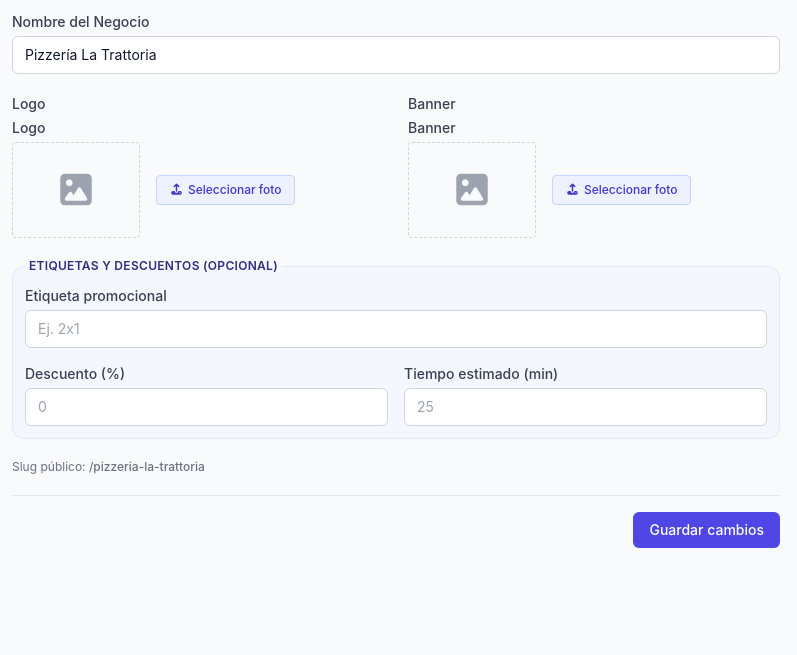
Test: MerchantProfileForm › bloquea el guardado si el descuento está fuera de rango
This screenshot has width=797, height=655.
Check: the button "Guardar cambios" is shown, box [634,512,780,548]
In the number field labelled "Descuento (%)": (206, 407) [25,388,388,426], type "300"
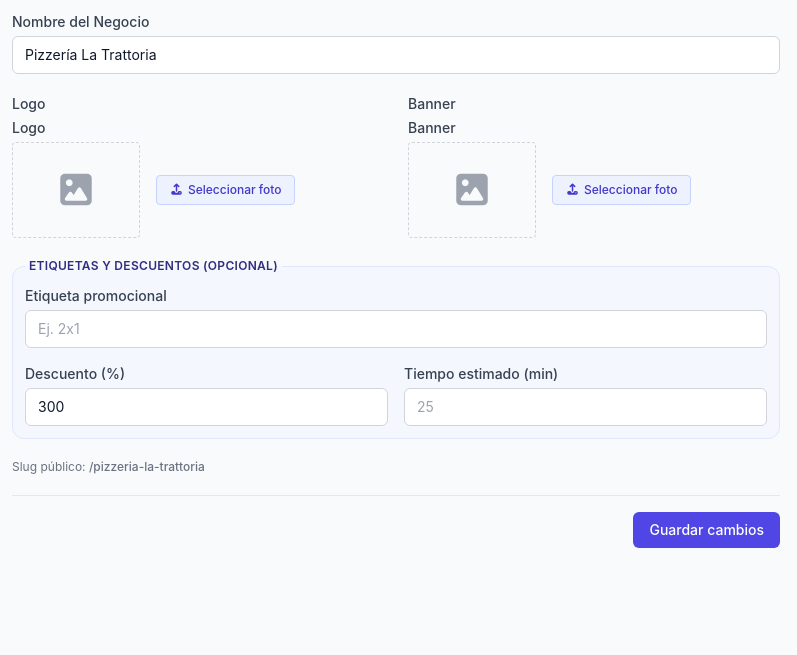
Click the button "Guardar cambios": (707, 530) [634,512,780,548]
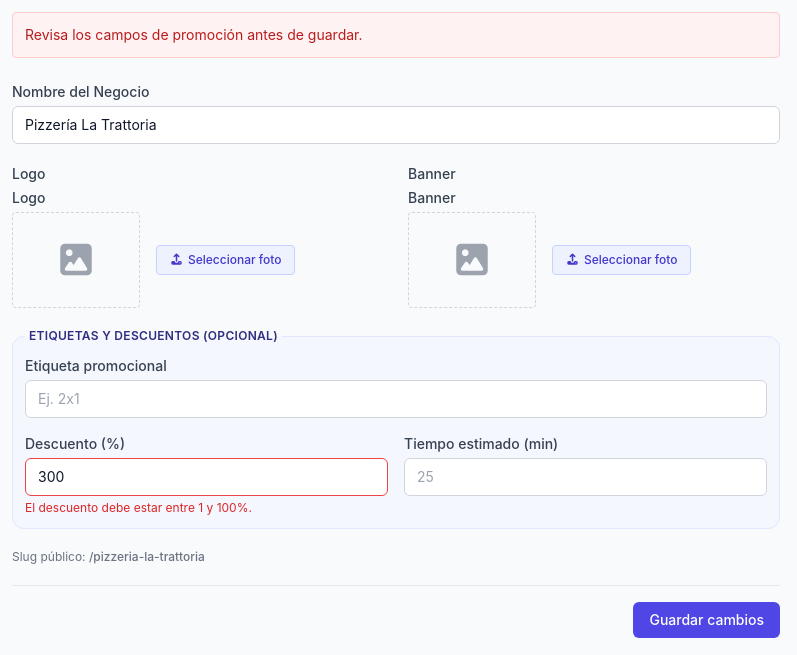
Check: the text "El descuento debe estar entre 1 y 100%." is shown, box [25,500,252,515]
